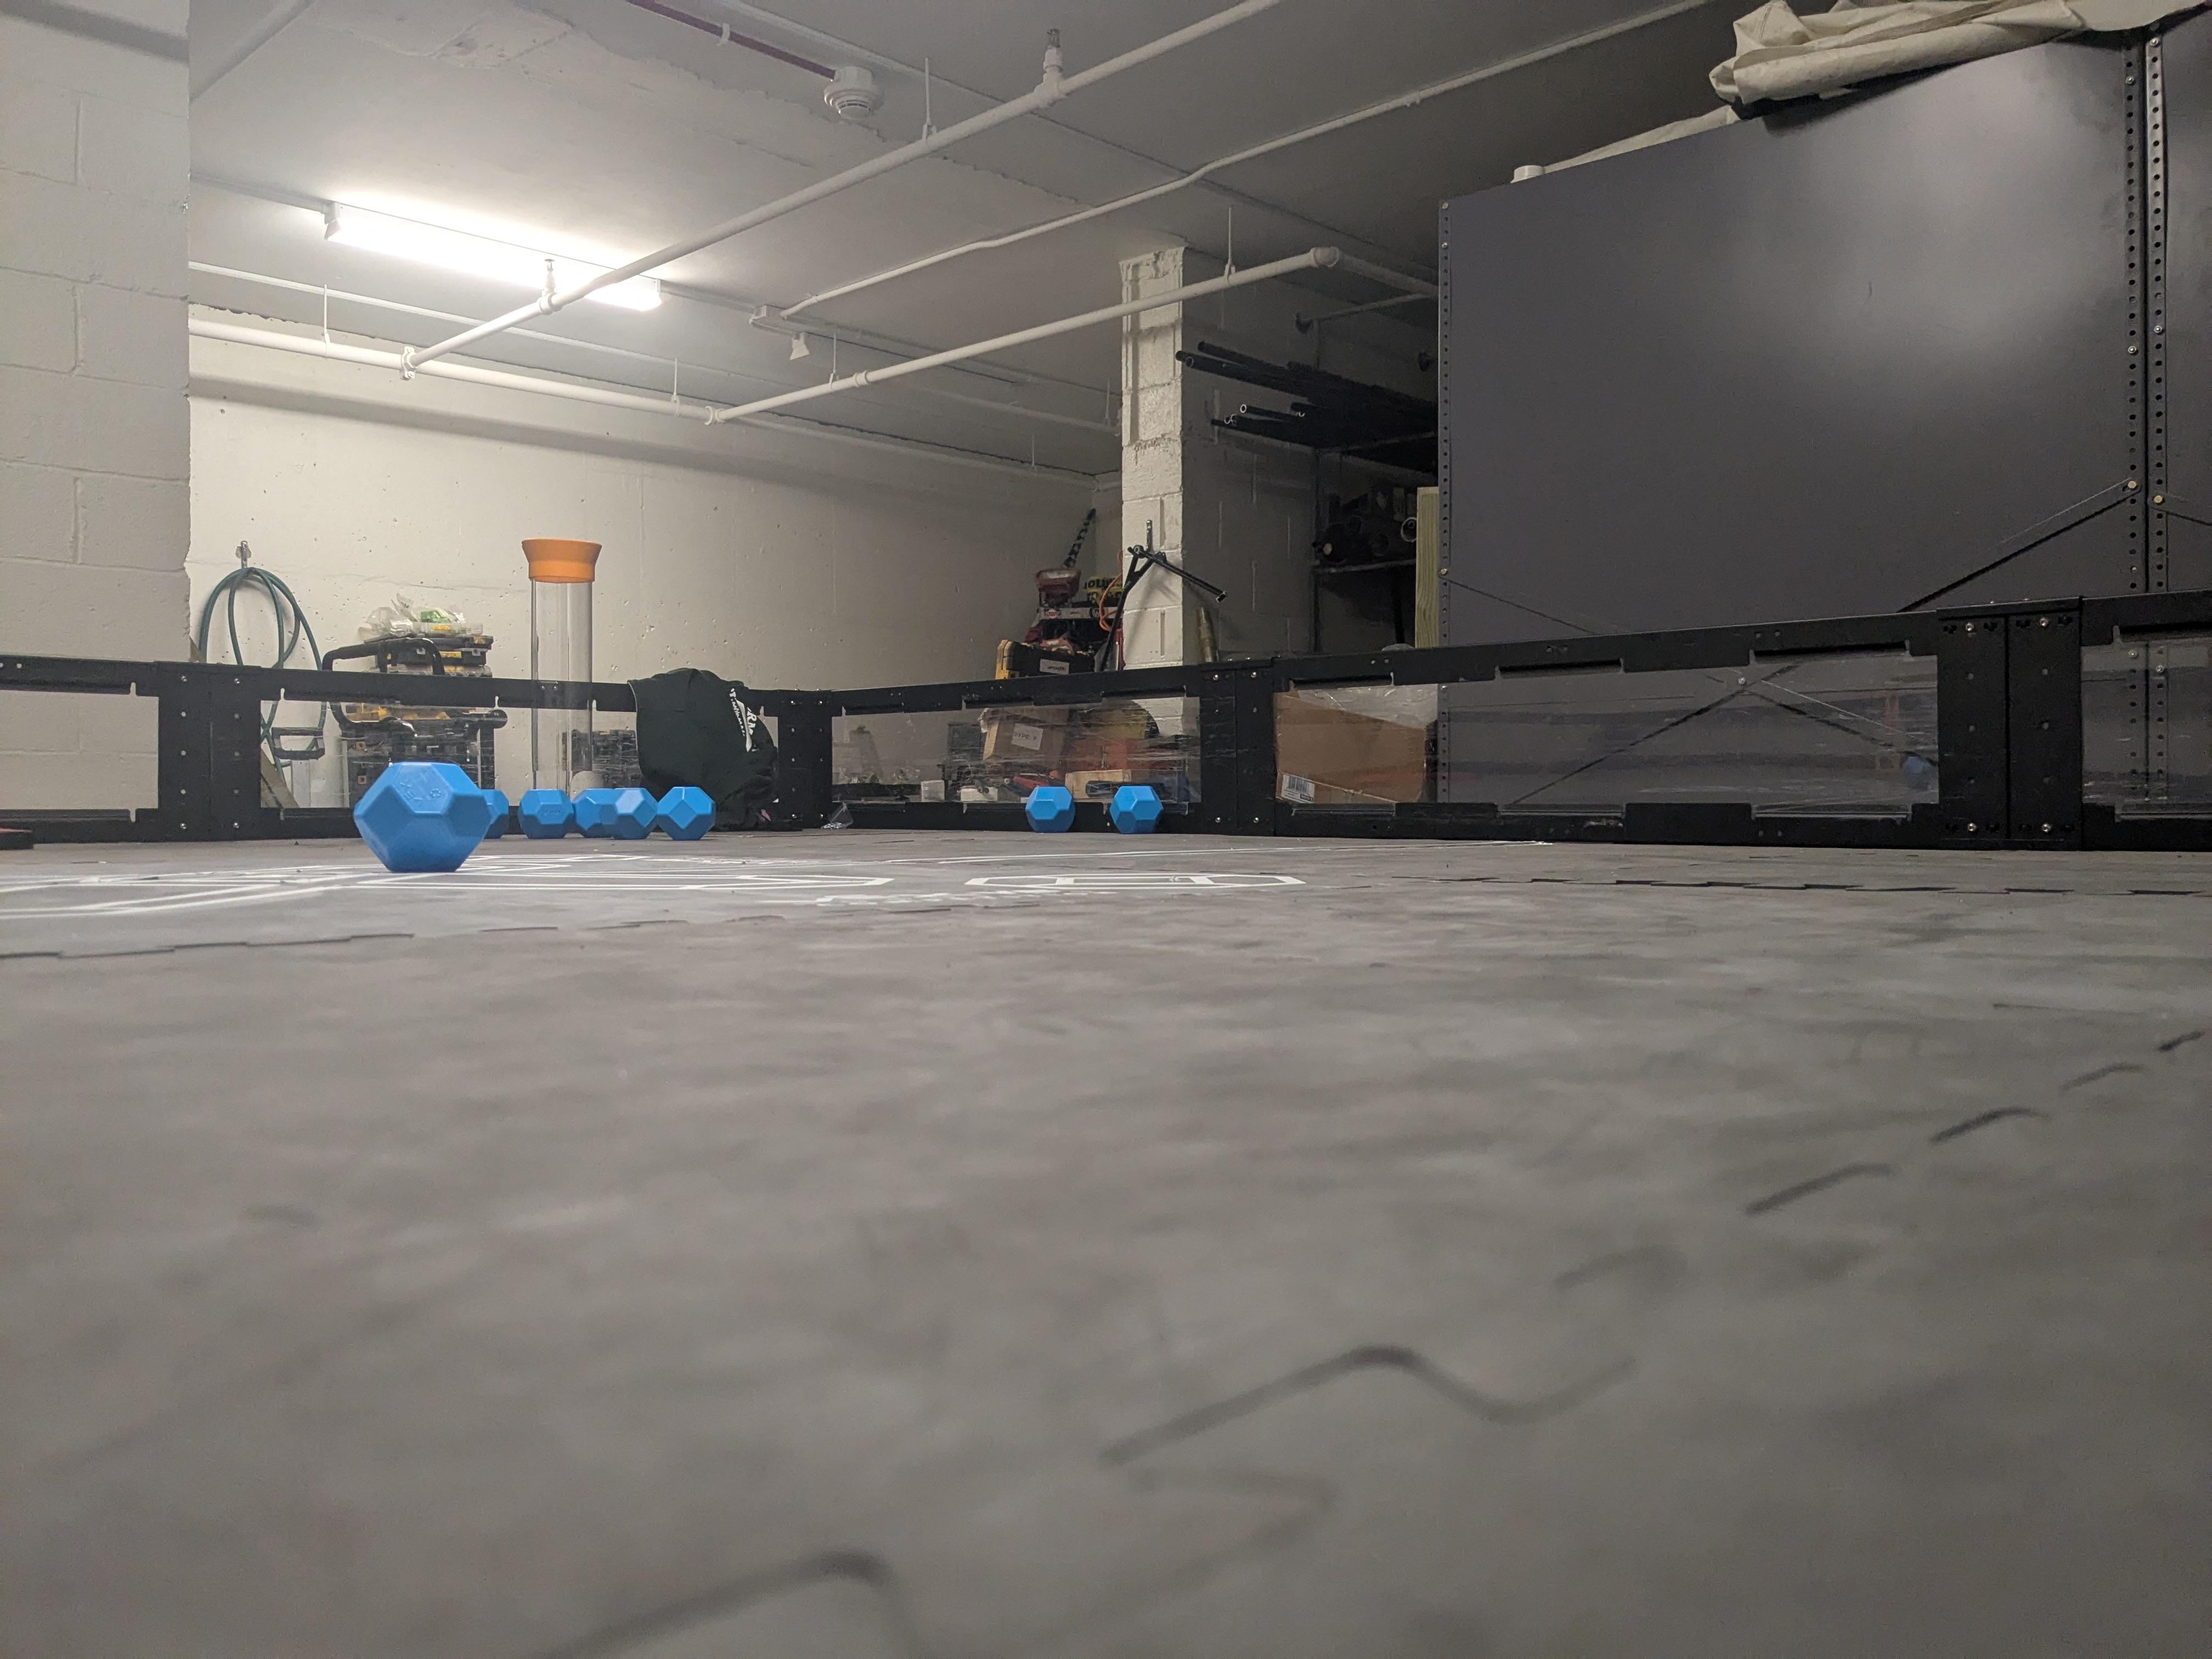Vex-Pieces-BLUE: (355, 762, 502, 870), (655, 786, 712, 840), (519, 789, 575, 838), (1108, 784, 1162, 833), (573, 788, 622, 836), (1024, 786, 1075, 833), (615, 788, 655, 836)
